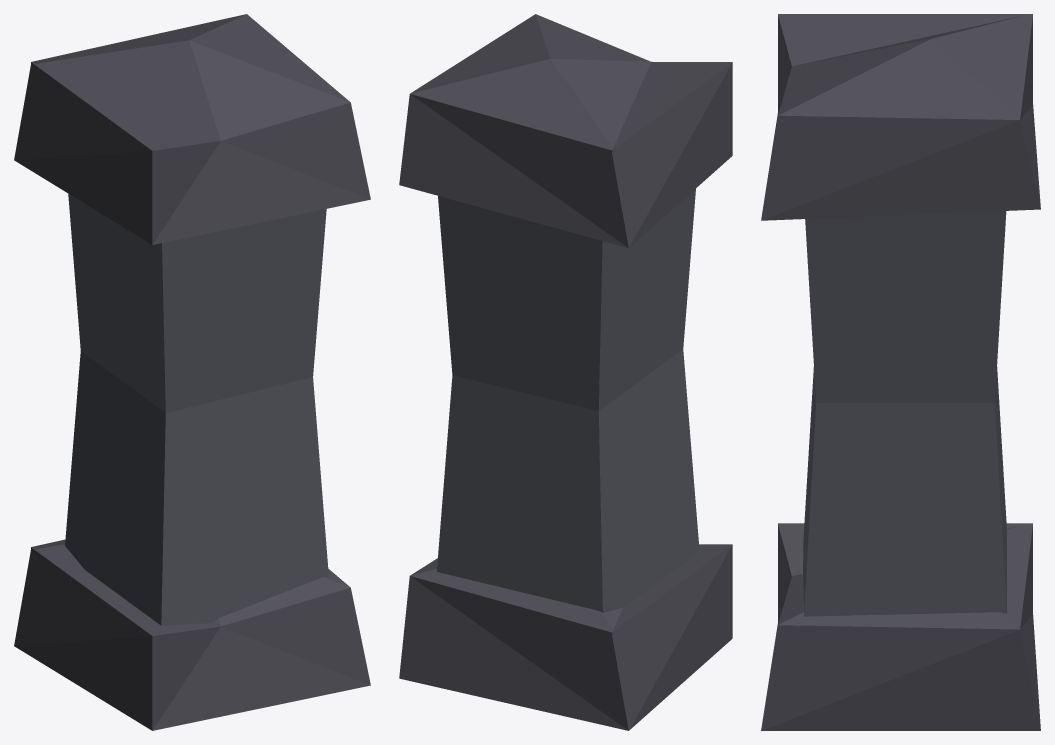
File: pillar.fbx
The picture shows the model from 3 angles, left to right: view 1: azimuth 30°, elevation 25°; view 2: azimuth 150°, elevation 25°; view 3: azimuth 270°, elevation 25°; orthographic projection. The views are drawn at different scales.
Parts seen in each view (by area): view 1: pillar; view 2: pillar; view 3: pillar.
Boxes of the visible parts, left/top/right/bottom form: pillar: left=14, top=14, right=370, bottom=730; pillar: left=399, top=14, right=732, bottom=730; pillar: left=761, top=14, right=1040, bottom=730.
Bounding box in the file's own units: 2.51 × 6.44 × 2.55.
